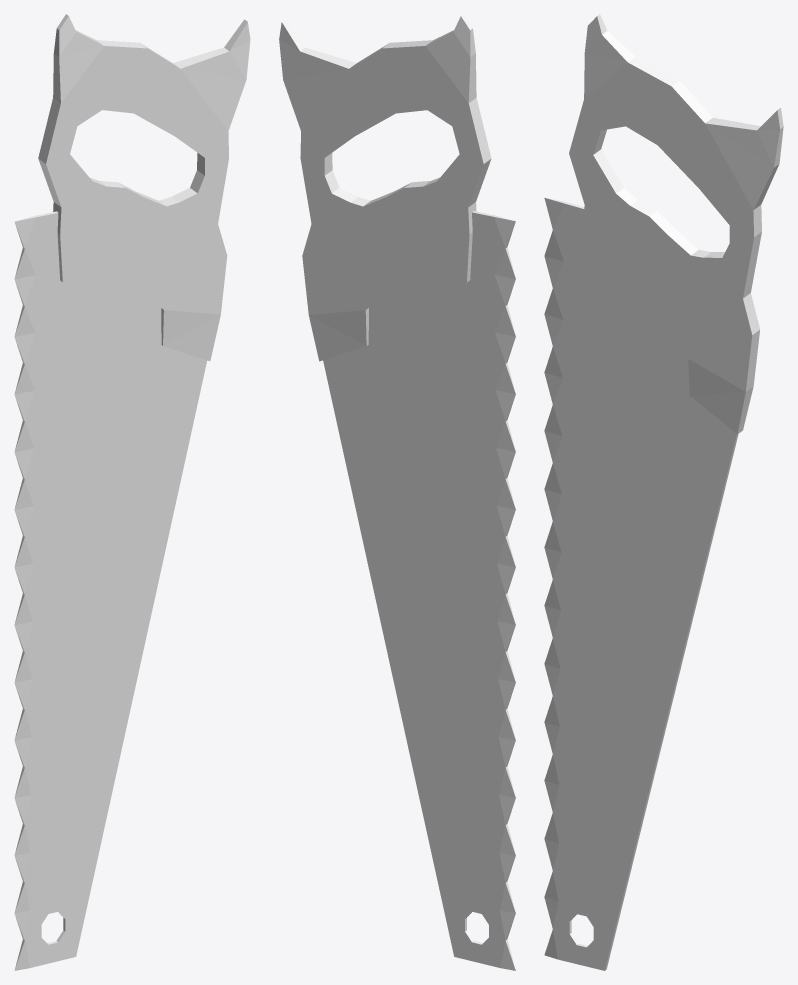
Rendered from Tool_Saw_01.glb.
The picture shows the model from 3 angles, left to right: view 1: azimuth 30°, elevation 25°; view 2: azimuth 150°, elevation 25°; view 3: azimuth 330°, elevation 25°; orthographic projection.
Parts seen in each view (by area): view 1: Tool_Saw_01; view 2: Tool_Saw_01; view 3: Tool_Saw_01.
Boxes of the visible parts, x1,y1,x2,y2 form: Tool_Saw_01: (14,14,250,970); Tool_Saw_01: (279,14,515,970); Tool_Saw_01: (544,14,783,970).
Size of the model in its own units: 0.1416 by 0.5437 by 0.00819.
1 material, 1 textured.
